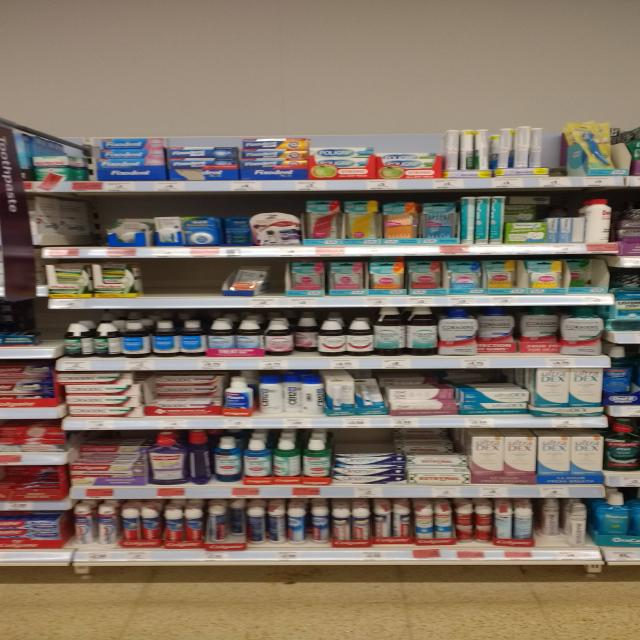void: (34, 198, 74, 258), (75, 196, 108, 257), (140, 260, 180, 307), (182, 260, 219, 308)
